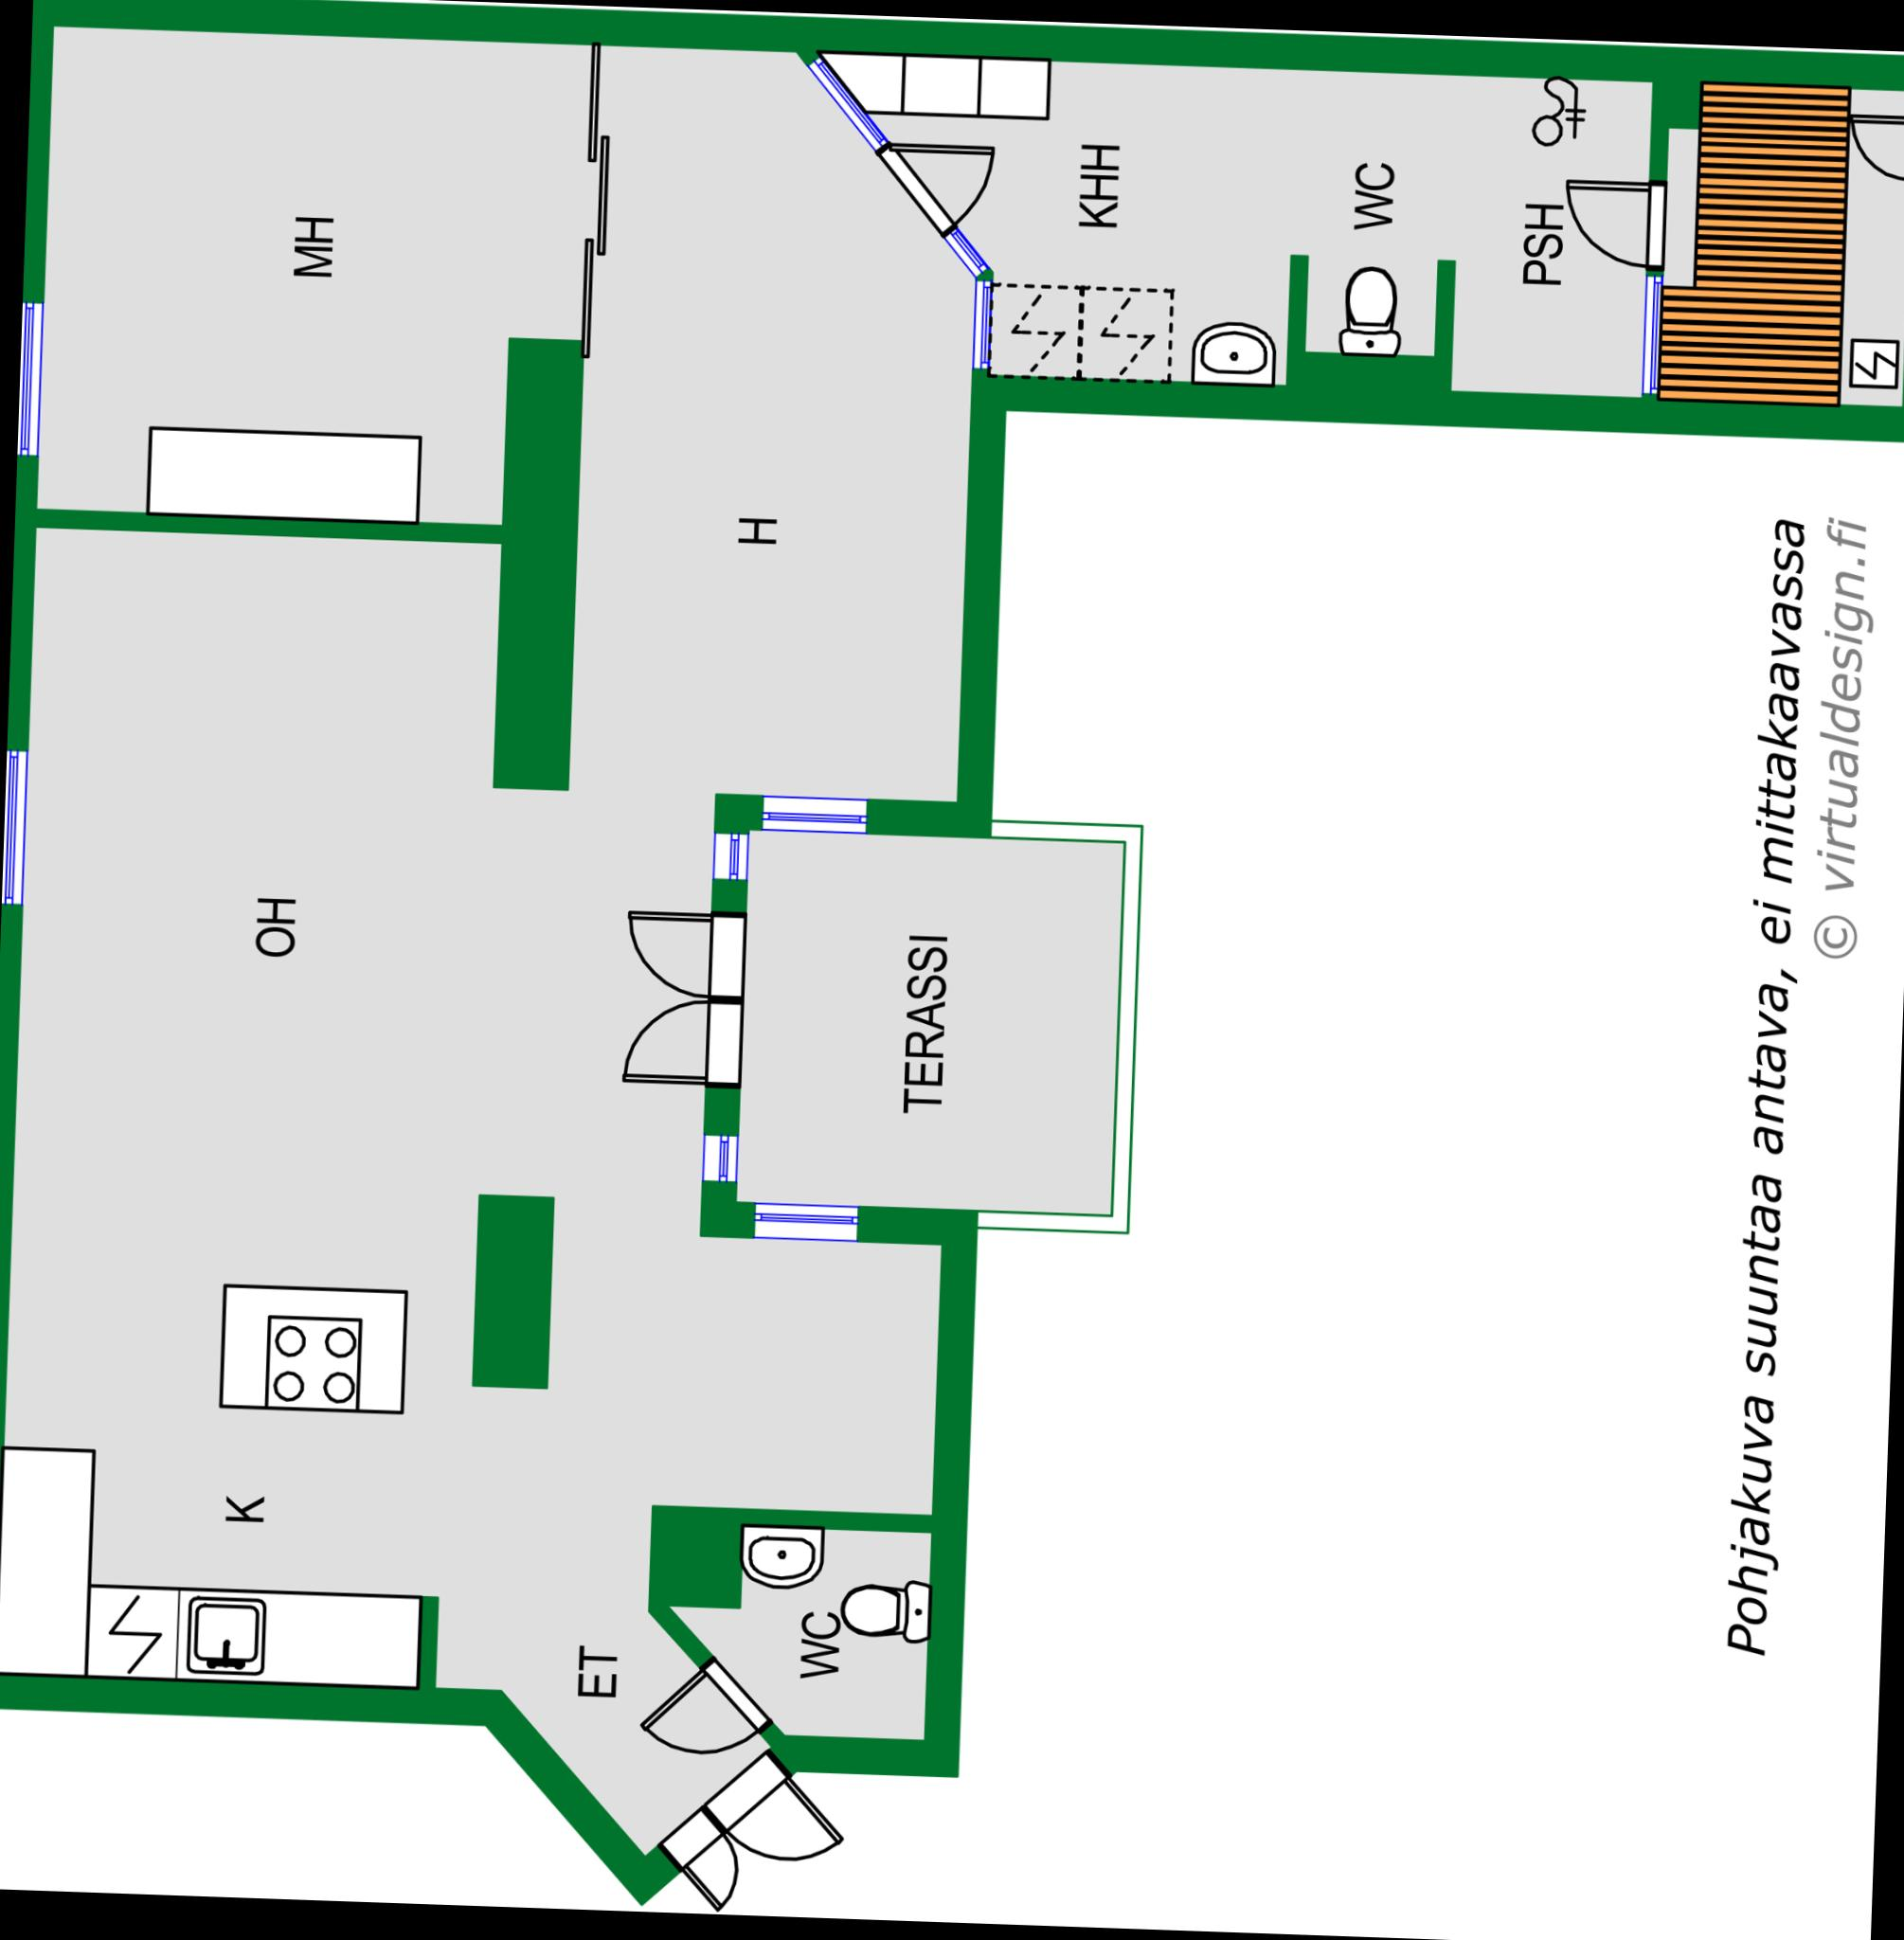door: (696, 1745, 851, 1865), (621, 898, 750, 1013), (638, 1652, 772, 1762), (874, 129, 1008, 239), (1555, 167, 1677, 281), (617, 999, 751, 1100), (647, 1813, 738, 1914), (1848, 105, 1904, 193)
window: (800, 47, 886, 152), (745, 1187, 870, 1250), (753, 784, 887, 840), (2, 734, 44, 912), (17, 279, 51, 471), (1632, 265, 1677, 397), (957, 275, 1010, 383), (703, 816, 758, 898), (697, 1121, 748, 1192), (942, 230, 992, 288)
